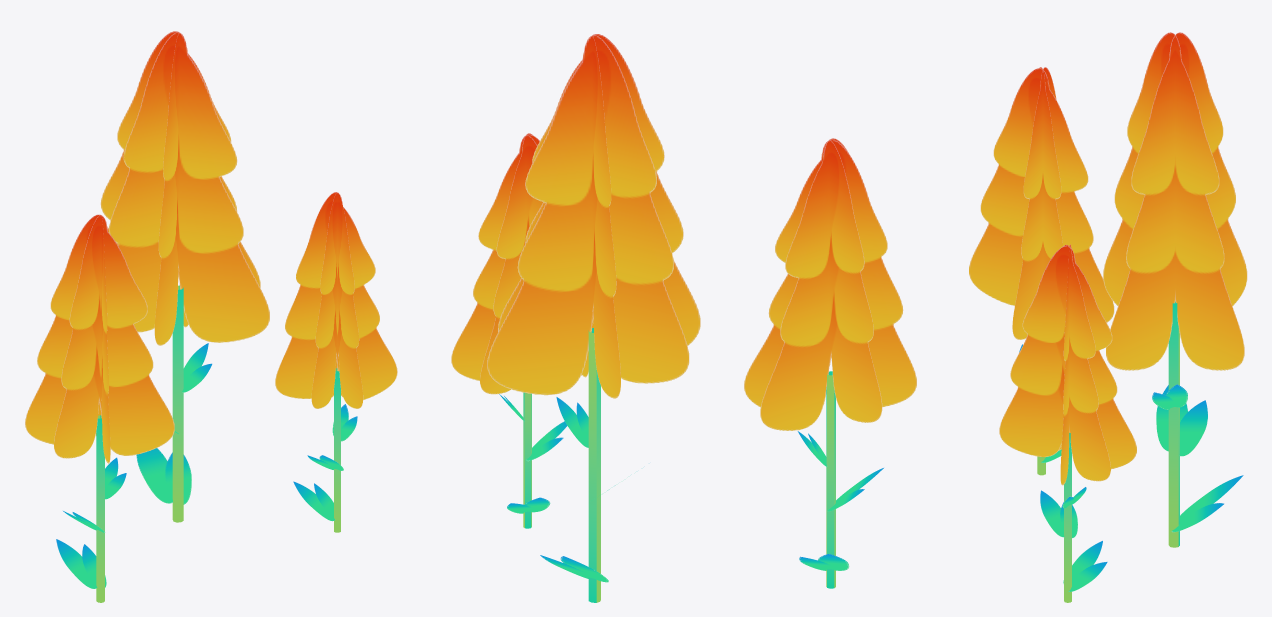
Rendered from Flowers_n02_07.fbx.
3 renders of one model, left to right at view 1: azimuth 30°, elevation 25°; view 2: azimuth 150°, elevation 25°; view 3: azimuth 270°, elevation 25°, orthographic. The views are drawn at different scales.
Parts seen in each view (by area): view 1: polySurface167; view 2: polySurface167; view 3: polySurface167.
Part boxes in pixels (x1,y1,x2,y2): polySurface167: [25, 31, 397, 602]; polySurface167: [451, 34, 916, 602]; polySurface167: [969, 32, 1247, 602].
Bounding box in the file's own units: 34.19 × 42.42 × 21.91.
Materials: 1 (1 with a texture image).
